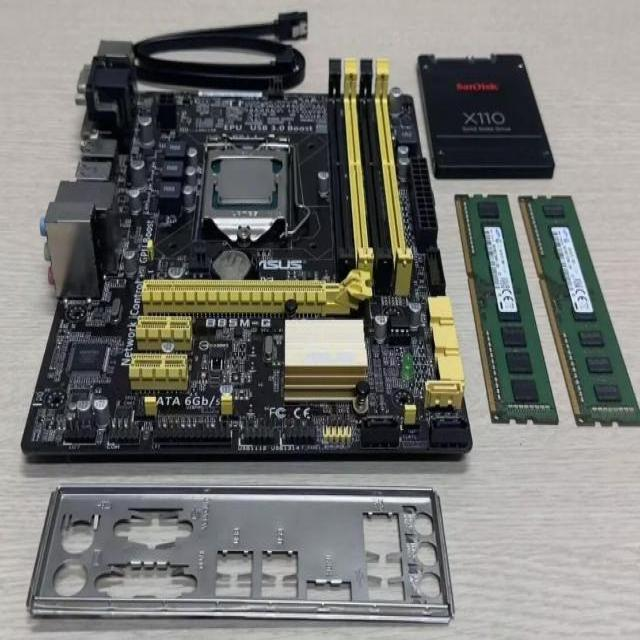CPU: (215, 159, 278, 206)
DISK: (416, 53, 556, 182)
RAM: (516, 194, 640, 429), (453, 193, 561, 427)
